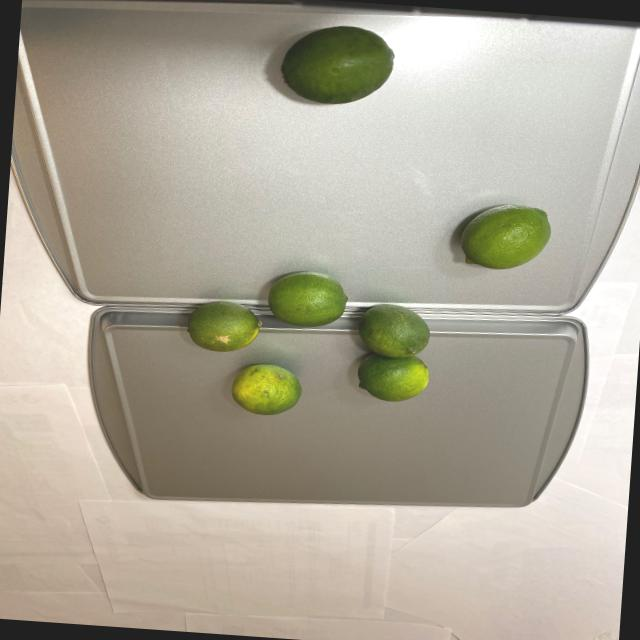lemon: (174, 263, 438, 426), (278, 20, 401, 107), (454, 200, 554, 276)
